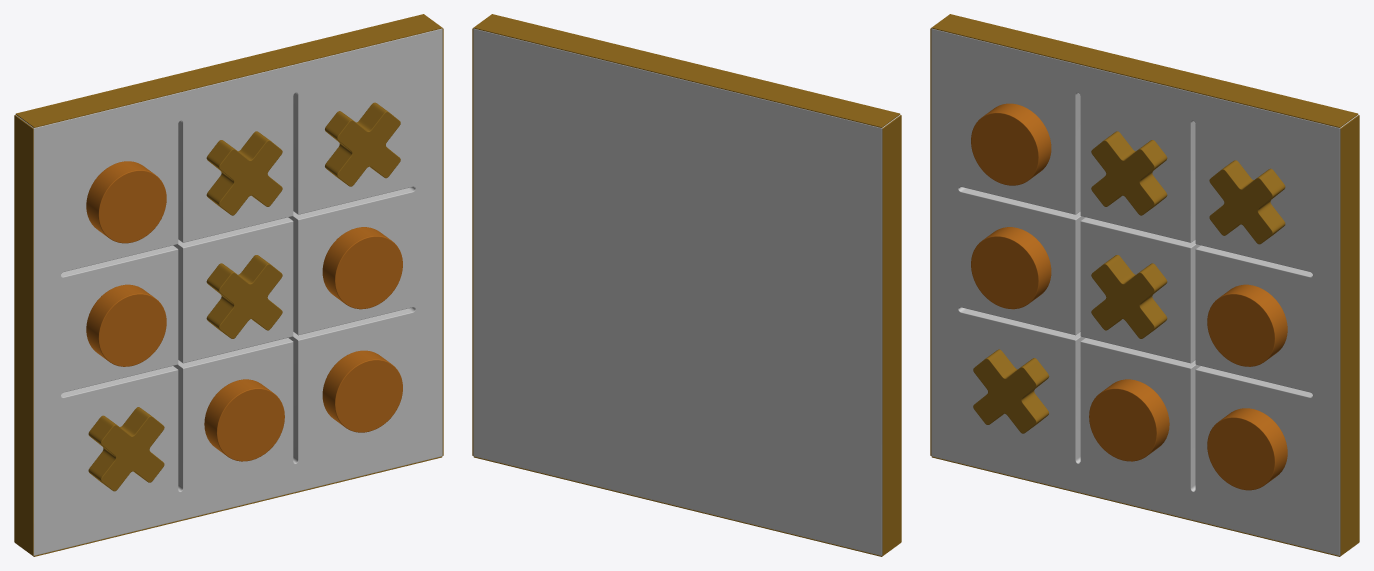
Rendered from Gallotti_Radice_Tip_Tap_Toe.obj.
The picture shows the model from 3 angles, left to right: view 1: azimuth 30°, elevation 25°; view 2: azimuth 150°, elevation 25°; view 3: azimuth 330°, elevation 25°; orthographic projection.
Parts seen in each view (by area): view 1: Gallotti_Radice_Tip_Tap_Toe; view 2: Gallotti_Radice_Tip_Tap_Toe; view 3: Gallotti_Radice_Tip_Tap_Toe.
Boxes of the visible parts, x1,y1,x2,y2 form: Gallotti_Radice_Tip_Tap_Toe: (14,14,443,556); Gallotti_Radice_Tip_Tap_Toe: (472,14,901,556); Gallotti_Radice_Tip_Tap_Toe: (930,14,1359,556).
Size of the model in its own units: 28 by 28 by 3.7.
